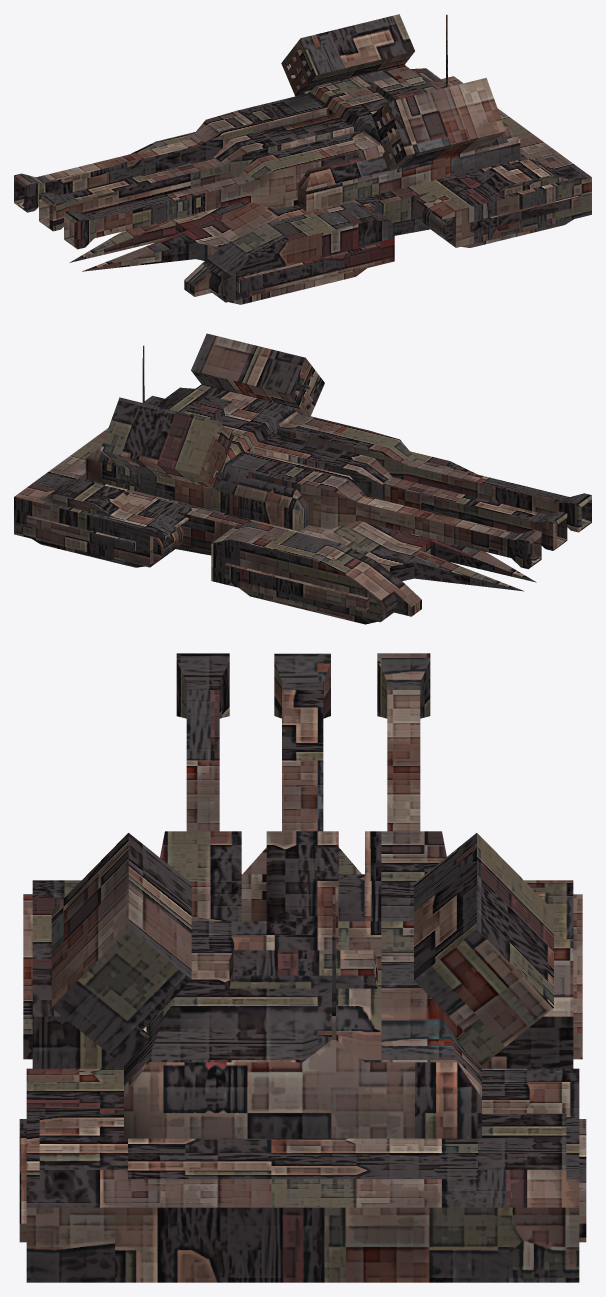
File: Tank_Tech_3.FBX
3 renders of one model, top to bottom at view 1: azimuth 30°, elevation 25°; view 2: azimuth 150°, elevation 25°; view 3: azimuth 270°, elevation 25°, orthographic. The views are drawn at different scales.
Visible parts, largest first — view 1: Box001; view 2: Box001; view 3: Box001.
Part boxes in pixels (bbox=[...]): Box001: bbox=[14, 14, 591, 304]; Box001: bbox=[14, 333, 591, 624]; Box001: bbox=[19, 653, 586, 1282].
Bounding box in the file's own units: 248 × 83.27 × 127.
